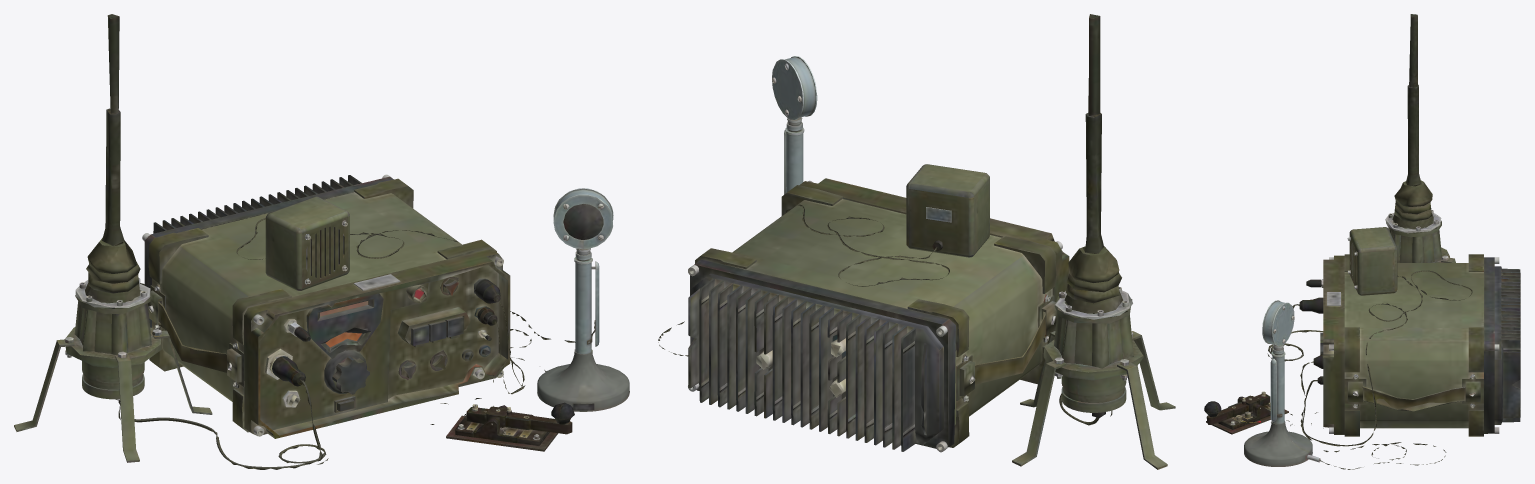
File: th_radio.glb
The picture shows the model from 3 angles, left to right: view 1: azimuth 30°, elevation 25°; view 2: azimuth 150°, elevation 25°; view 3: azimuth 270°, elevation 25°; orthographic projection. The views are drawn at different scales.
Parts seen in each view (by area): view 1: vintage_radio_transceiver, vintage_radio_transceiver_antenna, vintage_radio_transceiver_microphone, vintage_radio_transceiver_speaker, vintage_radio_transceiver_morse_key_base, vintage_radio_transceiver_cables, vintage_radio_transceiver_morse_key_arm, vintage_radio_transceiver_dial, vintage_radio_transceiver_antenna_plug_a; view 2: vintage_radio_transceiver, vintage_radio_transceiver_antenna, vintage_radio_transceiver_speaker, vintage_radio_transceiver_microphone, vintage_radio_transceiver_cables; view 3: vintage_radio_transceiver, vintage_radio_transceiver_antenna, vintage_radio_transceiver_microphone, vintage_radio_transceiver_speaker, vintage_radio_transceiver_cables, vintage_radio_transceiver_morse_key_arm, vintage_radio_transceiver_morse_key_base, vintage_radio_transceiver_antenna_plug_a.
Part boxes in pixels (x1=…): vintage_radio_transceiver: x1=142, y1=174, x2=510, y2=438; vintage_radio_transceiver_antenna: x1=14, y1=14, x2=212, y2=462; vintage_radio_transceiver_microphone: x1=537, y1=188, x2=629, y2=411; vintage_radio_transceiver_speaker: x1=265, y1=196, x2=349, y2=290; vintage_radio_transceiver_morse_key_base: x1=446, y1=405, x2=557, y2=451; vintage_radio_transceiver_cables: x1=118, y1=218, x2=575, y2=469; vintage_radio_transceiver_morse_key_arm: x1=466, y1=402, x2=574, y2=434; vintage_radio_transceiver_dial: x1=324, y1=332, x2=369, y2=394; vintage_radio_transceiver_antenna_plug_a: x1=272, y1=356, x2=305, y2=386; vintage_radio_transceiver: x1=688, y1=178, x2=1069, y2=452; vintage_radio_transceiver_antenna: x1=1012, y1=14, x2=1175, y2=469; vintage_radio_transceiver_speaker: x1=906, y1=164, x2=989, y2=257; vintage_radio_transceiver_microphone: x1=772, y1=56, x2=817, y2=194; vintage_radio_transceiver_cables: x1=658, y1=204, x2=1112, y2=425; vintage_radio_transceiver: x1=1323, y1=254, x2=1520, y2=436; vintage_radio_transceiver_antenna: x1=1385, y1=14, x2=1455, y2=262; vintage_radio_transceiver_microphone: x1=1244, y1=300, x2=1320, y2=466; vintage_radio_transceiver_speaker: x1=1347, y1=227, x2=1397, y2=295; vintage_radio_transceiver_cables: x1=1267, y1=270, x2=1472, y2=469; vintage_radio_transceiver_morse_key_arm: x1=1204, y1=391, x2=1270, y2=424; vintage_radio_transceiver_morse_key_base: x1=1206, y1=396, x2=1288, y2=434; vintage_radio_transceiver_antenna_plug_a: x1=1299, y1=297, x2=1323, y2=313.
Bounding box in the file's own units: 0.574 × 0.4344 × 0.4128.
2 materials, 2 textured.
